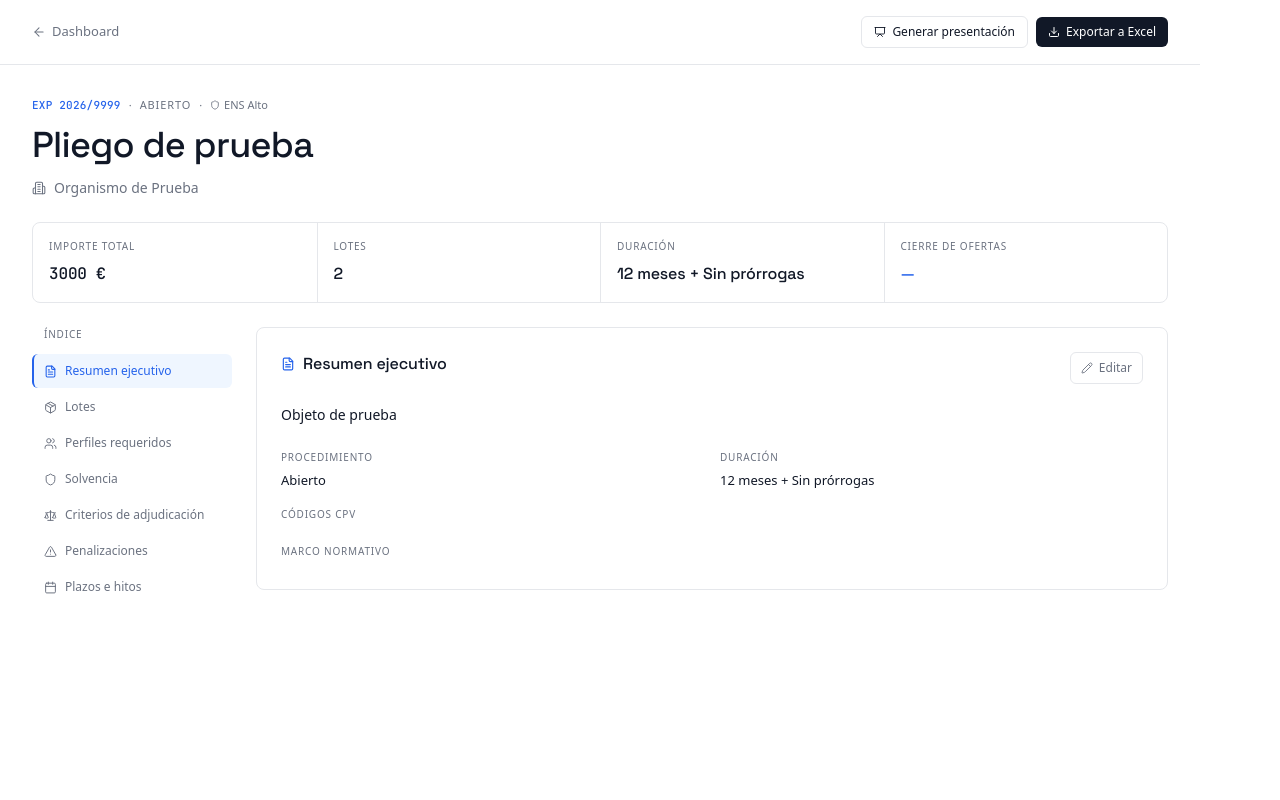
Test case: Analysis - botón Generar presentación › muestra un banner de error si la generación falla
The width and height of the screenshot is (1280, 800).
Click the button "Generar presentación" at (945, 32), box top-left (861, 16), bottom-right (1028, 48)
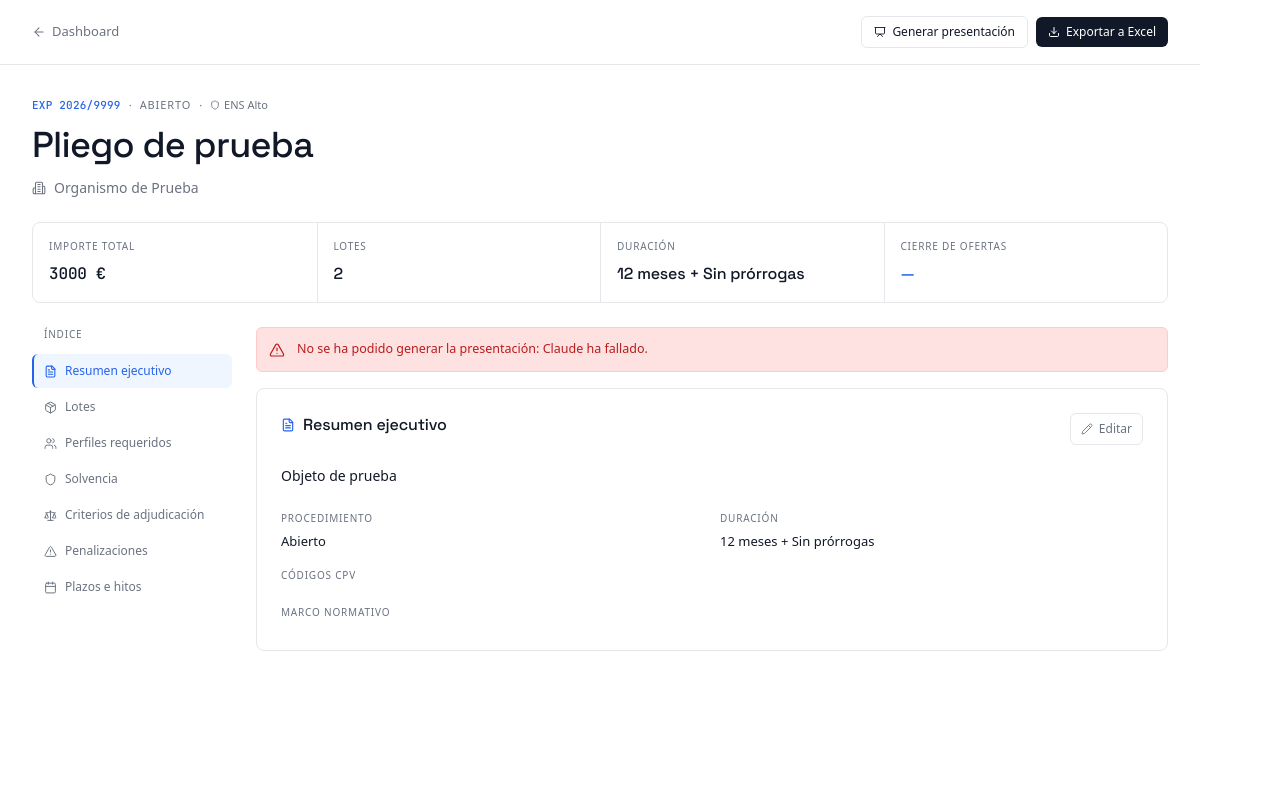
expect the text "No se ha podido generar la presentación" is shown: met, box top-left (297, 340), bottom-right (543, 357)
expect the text "Claude ha fallado" is shown: met, box top-left (543, 340), bottom-right (648, 357)
